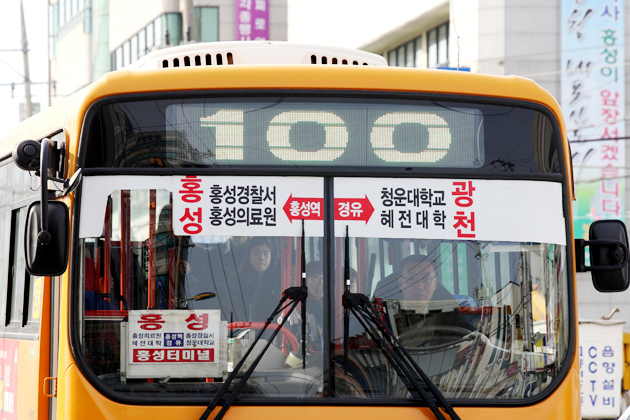bnum: (198, 107, 458, 165)
